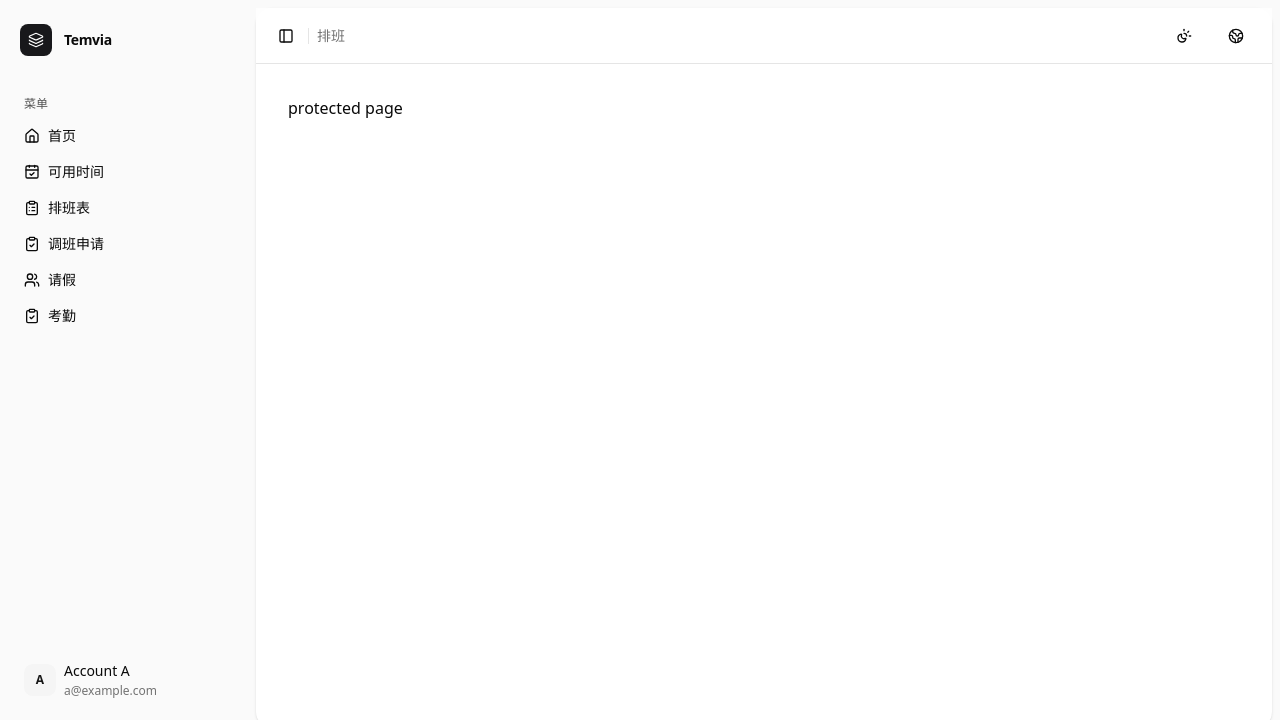
Test: AuthenticatedShell navigation and logout boundaries › keeps personal settings keyboard-accessible in the avatar menu in zh-CN
The width and height of the screenshot is (1280, 720).
Click the button "A Account A a@example.com" at [128, 680], box [16,656,240,704]
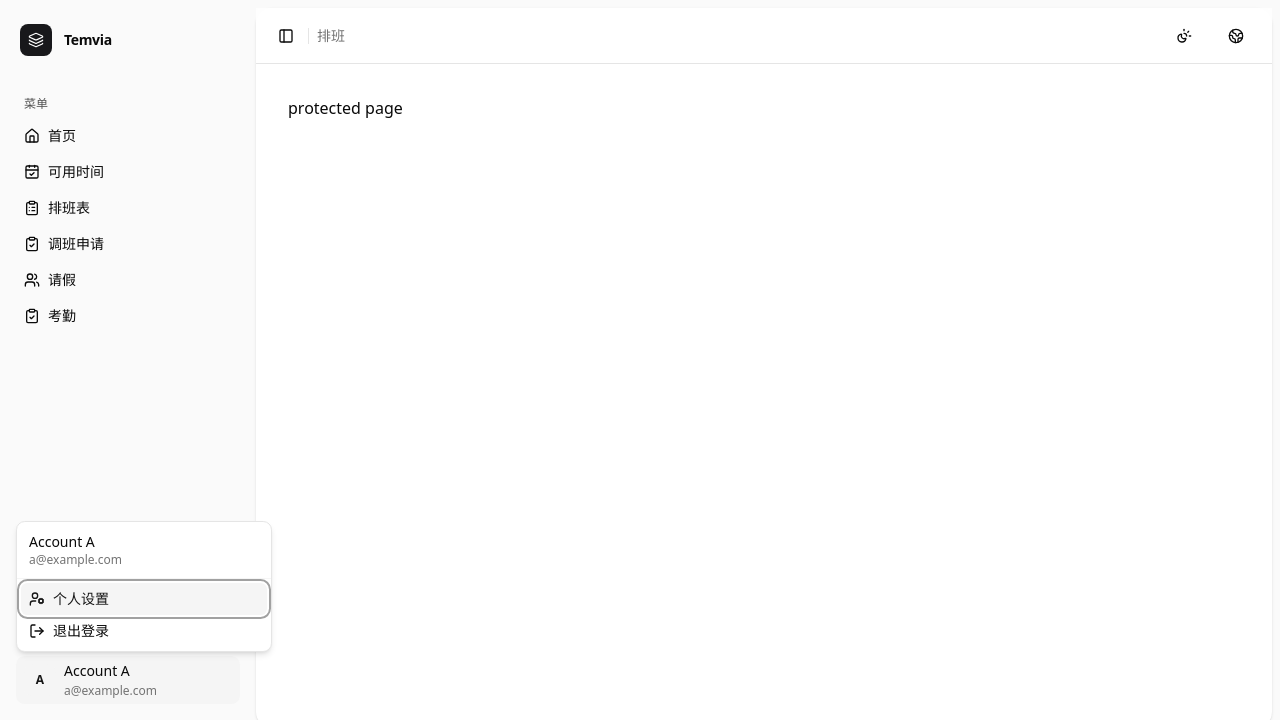
Press Enter
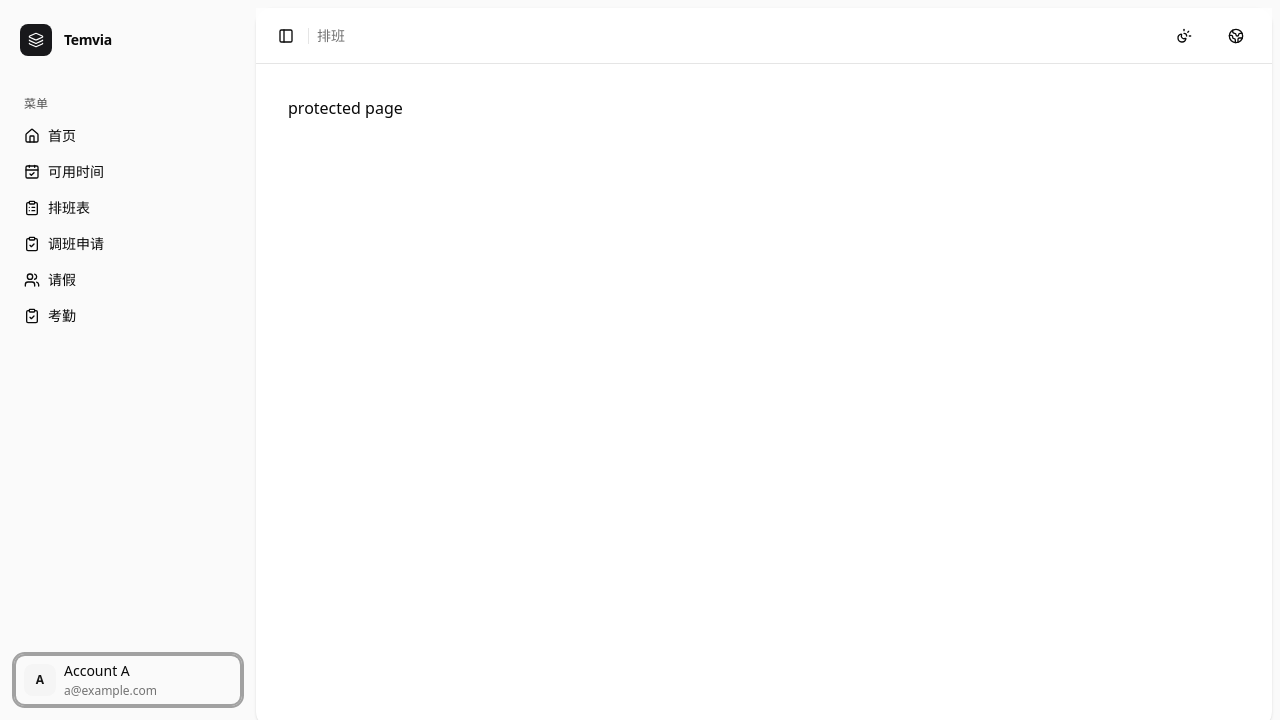
Result: the menu item "个人设置" is gone
